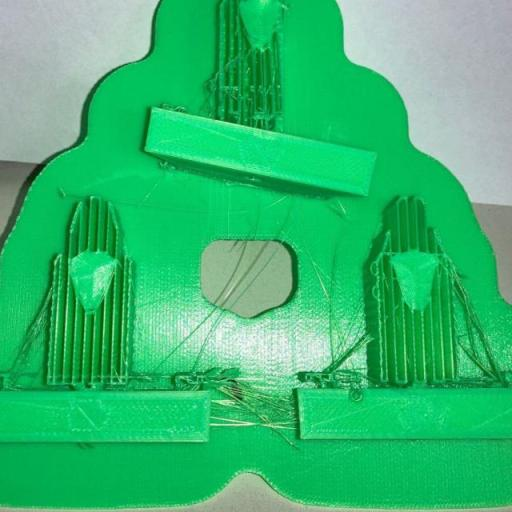stringing: (445, 261, 509, 384), (212, 382, 292, 431), (318, 329, 370, 375)
